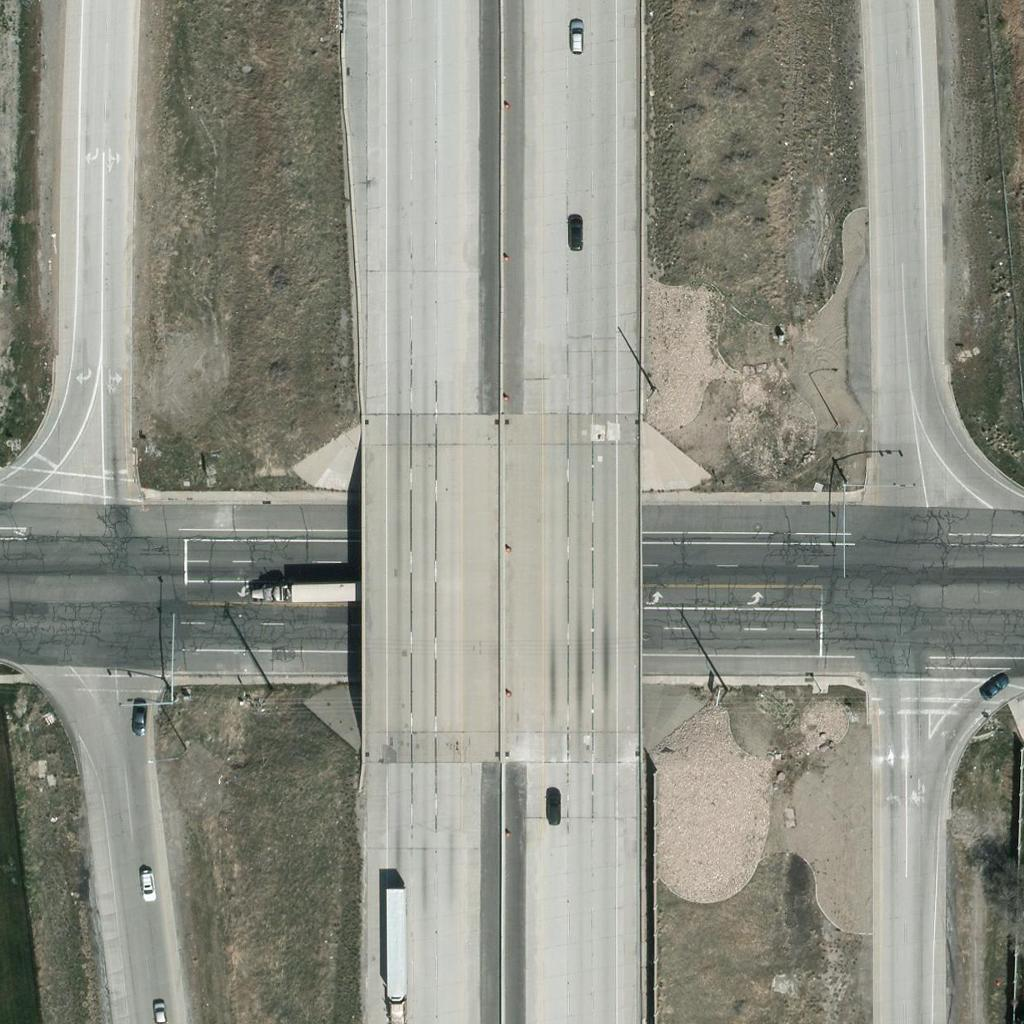car: (558, 20, 592, 54), (558, 214, 592, 248), (975, 669, 1009, 703), (120, 700, 154, 734), (536, 793, 570, 827), (128, 865, 162, 899), (142, 999, 176, 1024)
